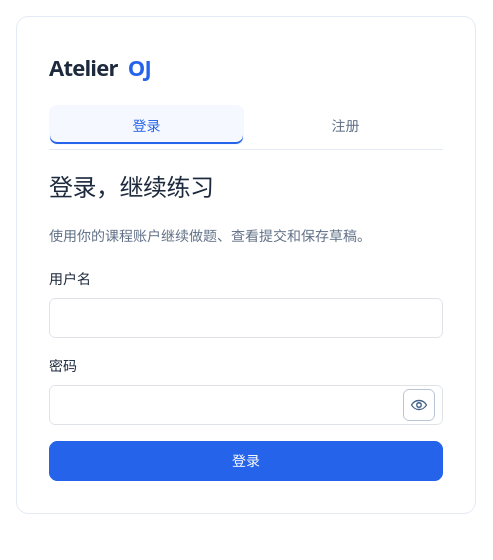
Test: shows a username-level error and moves focus for an unknown user
This screenshot has width=493, height=560.
In the field labelled "用户名": {"x": 246, "y": 318} top-left (49, 298), bottom-right (443, 338), type "missing"
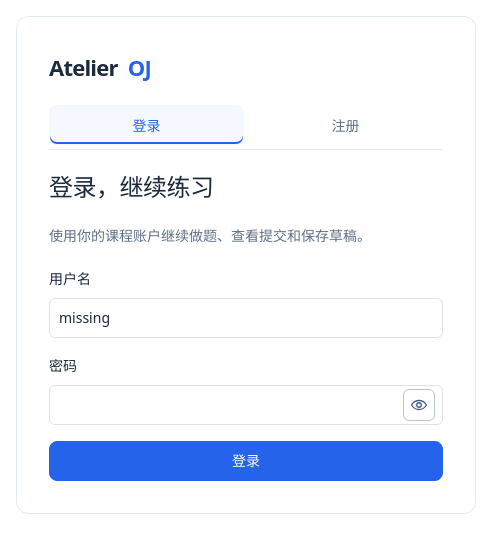
In the password field labelled "密码": {"x": 246, "y": 405} top-left (49, 385), bottom-right (443, 425), type "secret1"
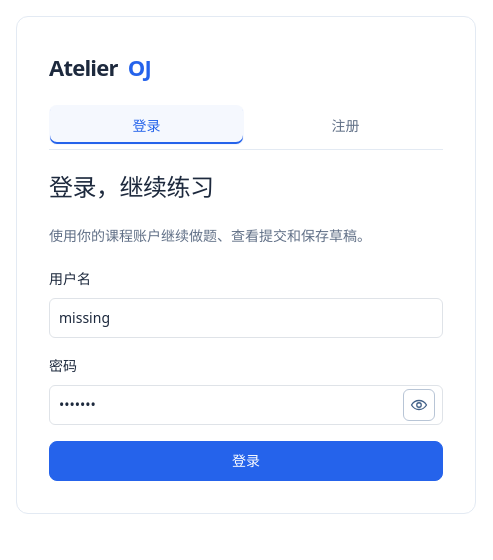
Click the button "登录": {"x": 246, "y": 461} top-left (49, 441), bottom-right (443, 481)
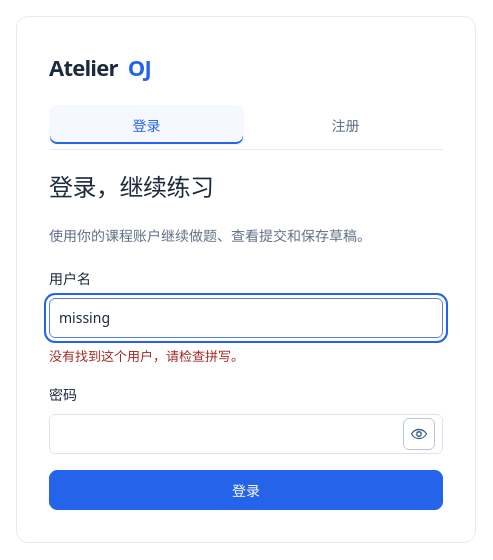
expect the text "没有找到这个用户，请检查拼写。" is shown: met, box top-left (49, 347), bottom-right (244, 365)
expect the password field labelled "密码" is empty: met, box top-left (49, 414), bottom-right (443, 454)
